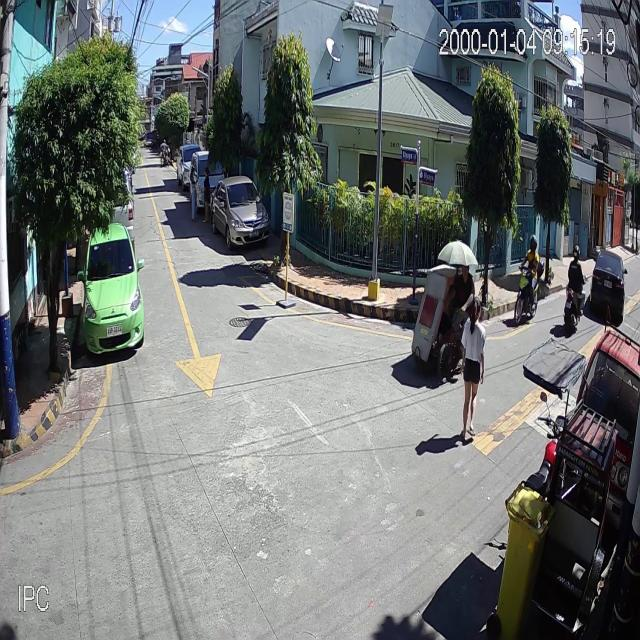standing: (188, 166, 201, 221), (202, 166, 213, 223), (159, 138, 168, 165)
walking: (459, 296, 486, 442)
